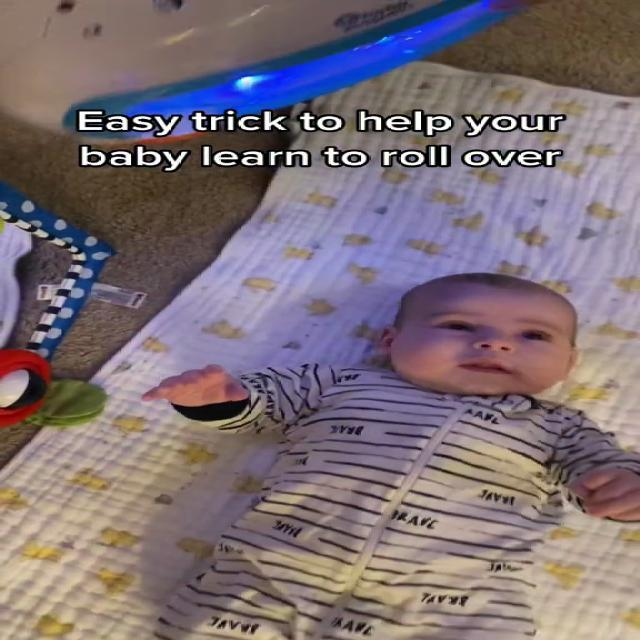baby: (145, 269, 640, 640)
